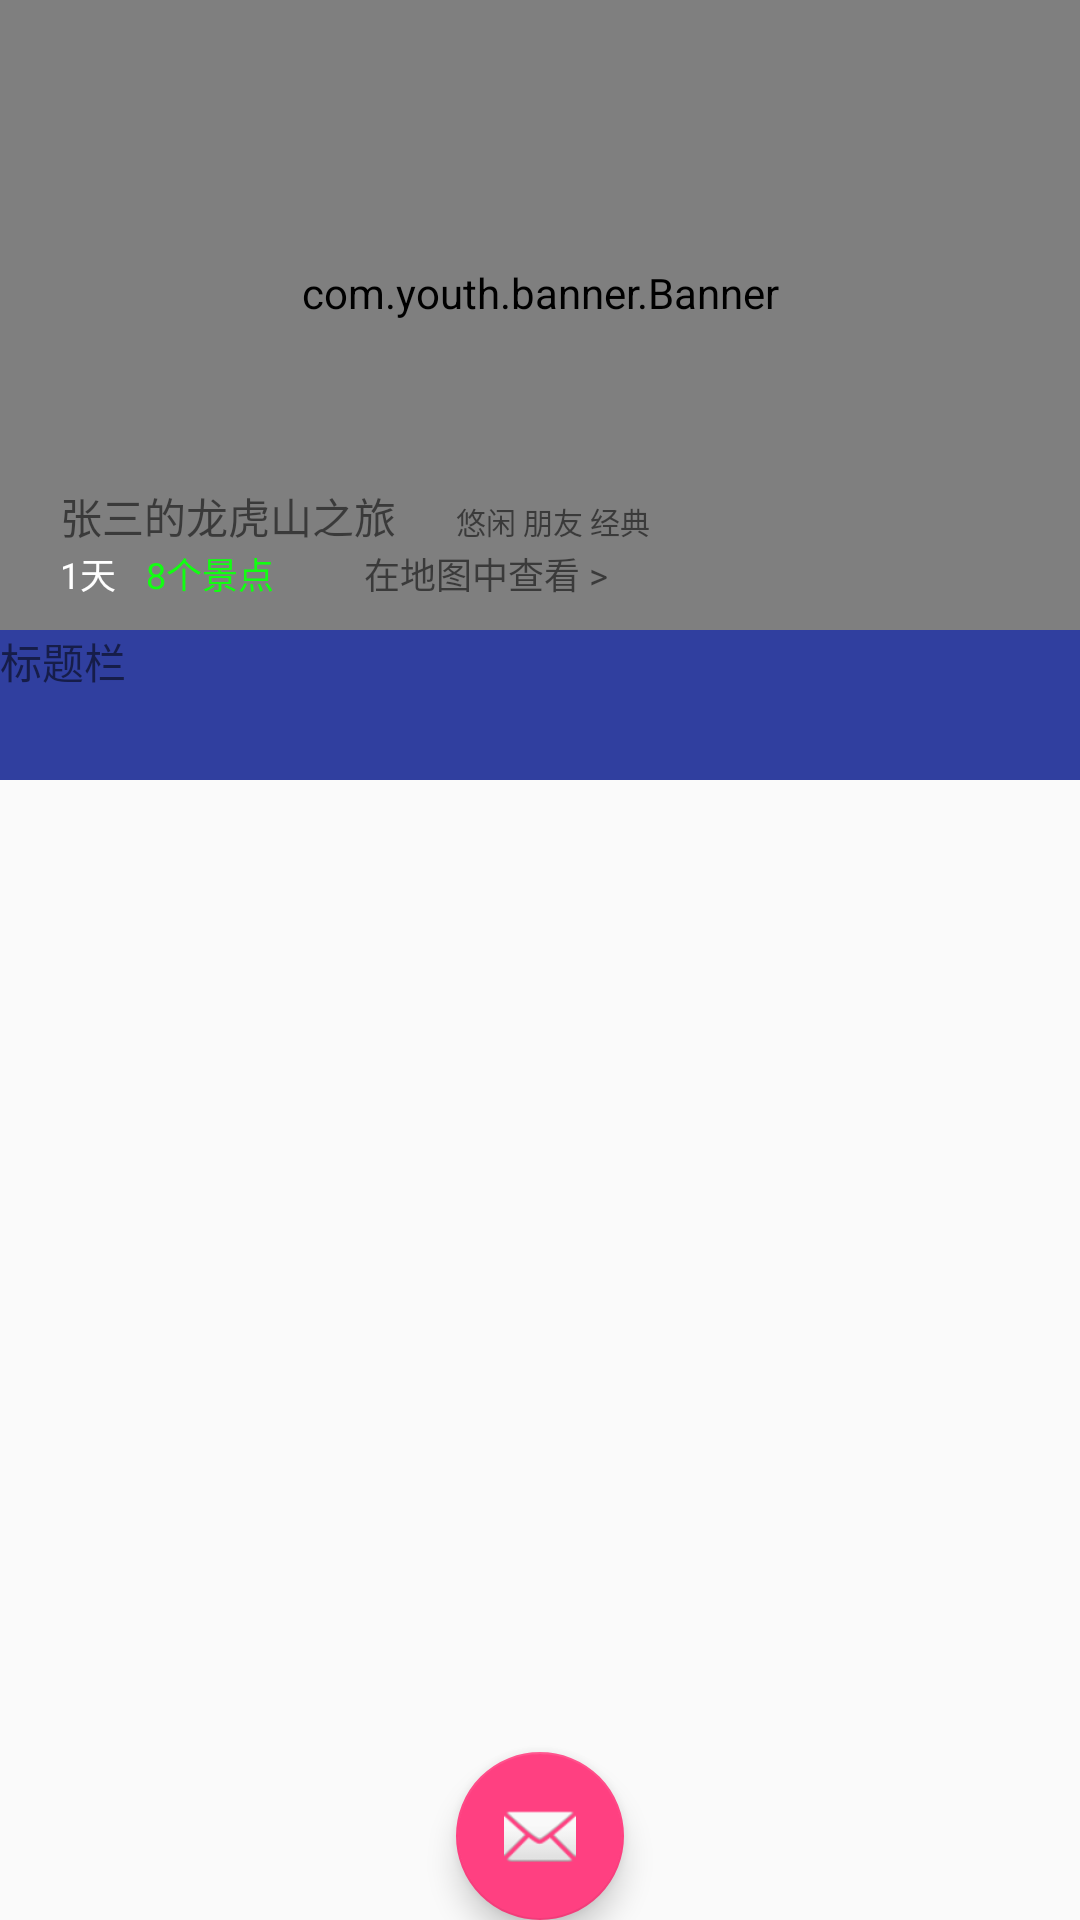

Screen size 1080 × 1920. Icon name, then its center in pixels as [x,y]:
email: [540,1836]
